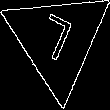L_SW: (35, 10, 80, 70)
